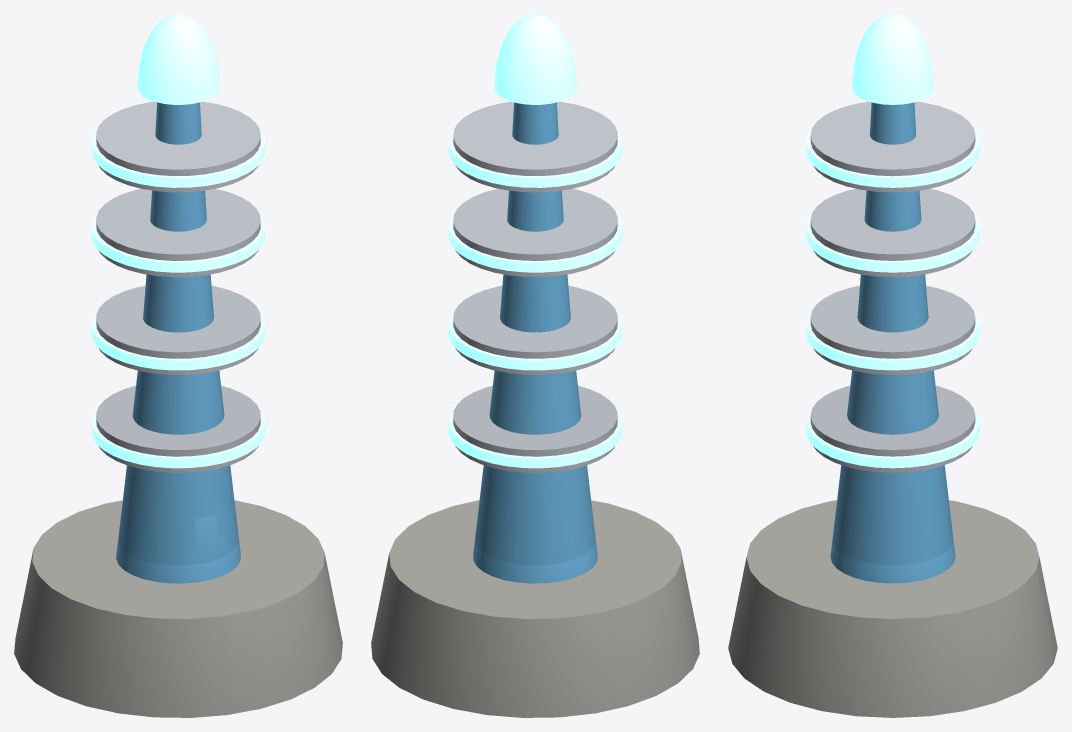
Rendered from allied_gap_generator.glb.
The picture shows the model from 3 angles, left to right: view 1: azimuth 30°, elevation 25°; view 2: azimuth 150°, elevation 25°; view 3: azimuth 270°, elevation 25°; orthographic projection.
Visible parts, largest first — view 1: Turret, Hull, Barrel; view 2: Turret, Hull; view 3: Turret, Hull, Barrel.
Boxes of the visible parts, x1,y1,x2,y2 form: Turret: (91, 14, 265, 565); Hull: (14, 500, 342, 717); Barrel: (156, 144, 262, 565); Turret: (448, 14, 622, 565); Hull: (371, 500, 699, 717); Turret: (810, 14, 979, 565); Hull: (728, 500, 1057, 717); Barrel: (806, 128, 840, 550).
Size of what is drawn, in the model's own units: 2.02 by 4.27 by 2.02.
